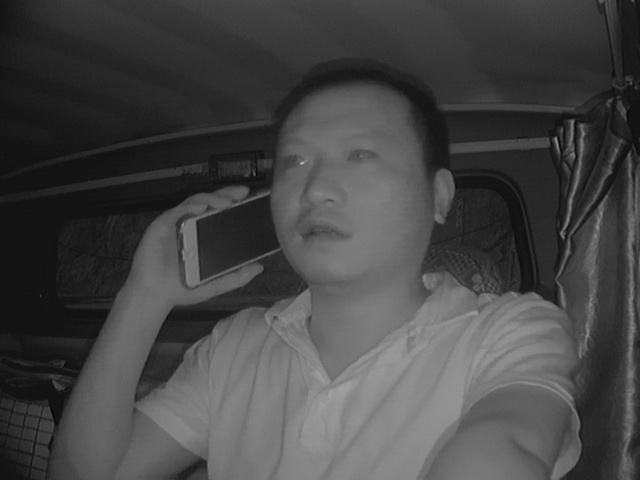hand: (123, 181, 259, 306)
